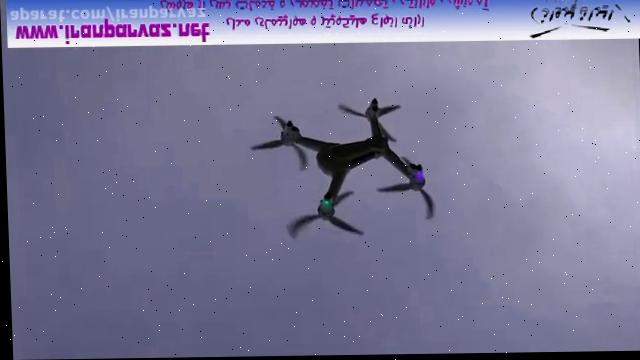drone: (243, 97, 439, 243)
